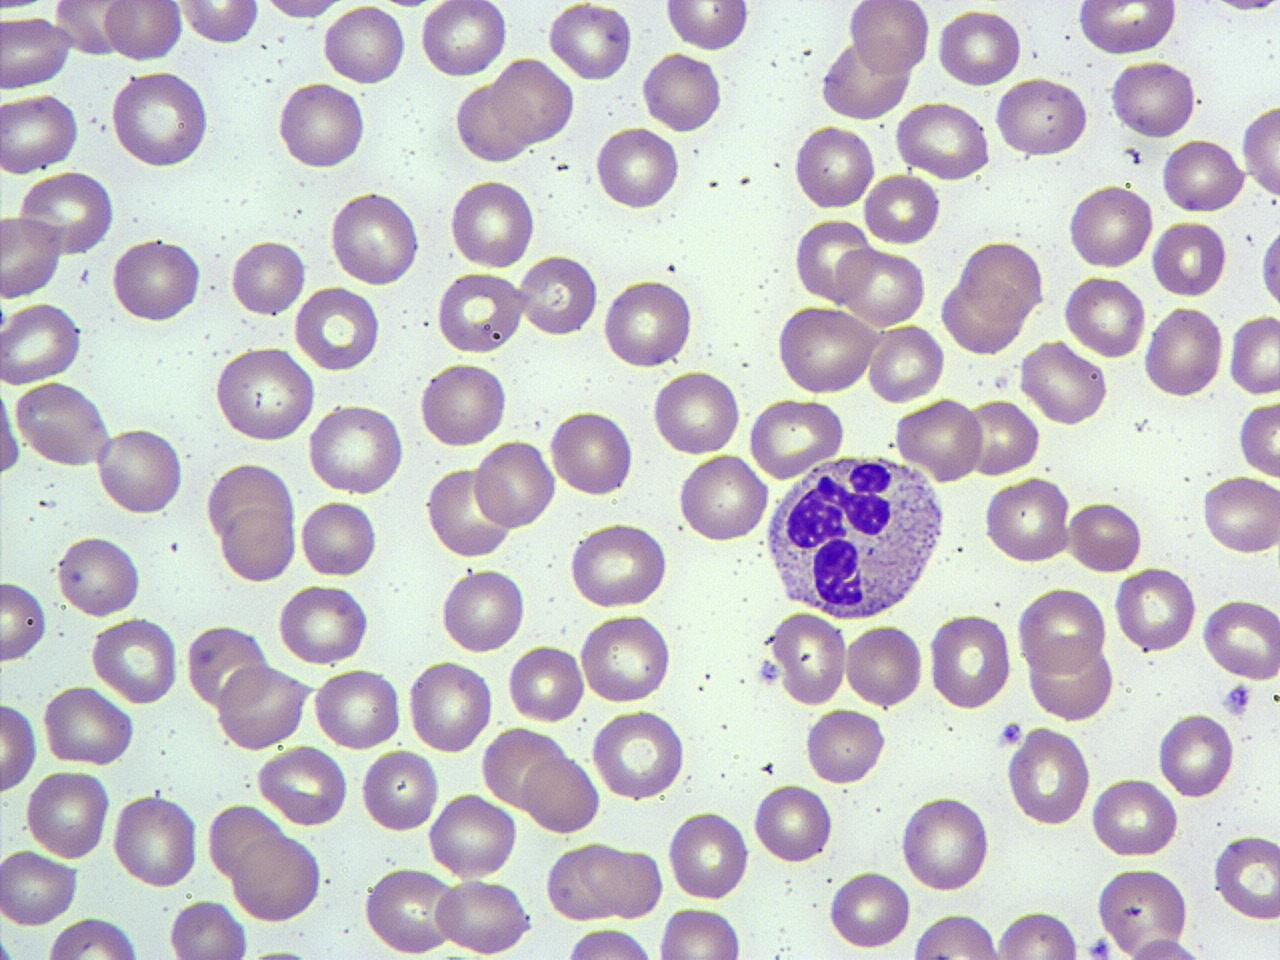Platelets: (1220, 680, 1254, 720), (756, 657, 782, 688), (998, 720, 1023, 748), (1087, 934, 1113, 960)
RBC: (211, 344, 317, 445), (109, 69, 210, 169), (773, 304, 879, 396), (326, 189, 424, 288), (306, 402, 406, 498), (898, 792, 992, 894), (576, 610, 673, 708), (589, 708, 689, 802), (13, 377, 114, 470), (1005, 724, 1093, 830), (1095, 864, 1193, 959), (15, 168, 118, 258), (600, 276, 696, 372), (568, 520, 670, 610), (405, 656, 495, 758), (676, 451, 770, 548), (204, 460, 297, 556), (1014, 584, 1109, 677), (416, 357, 509, 452), (111, 792, 200, 891), (747, 396, 849, 481), (426, 790, 520, 882), (95, 422, 186, 517), (928, 610, 1012, 712), (231, 832, 324, 924), (276, 79, 368, 172), (110, 234, 204, 325), (546, 406, 636, 501), (447, 176, 536, 272), (991, 74, 1091, 159), (651, 366, 743, 458), (214, 661, 308, 751), (23, 768, 113, 862), (471, 436, 558, 533), (423, 464, 509, 562), (364, 865, 456, 956), (981, 474, 1073, 565), (1065, 180, 1155, 273), (438, 564, 527, 658), (833, 243, 928, 330), (1142, 302, 1224, 402), (1018, 338, 1109, 428), (312, 664, 403, 754), (666, 806, 750, 903), (431, 877, 534, 956), (40, 684, 138, 767), (90, 614, 180, 704), (892, 99, 992, 180), (893, 395, 984, 484), (255, 743, 350, 828), (276, 582, 372, 666), (593, 123, 682, 212), (435, 268, 526, 355), (792, 121, 878, 213), (771, 608, 850, 708), (820, 36, 912, 121), (55, 532, 143, 620), (293, 285, 382, 372), (1112, 564, 1198, 654), (1088, 776, 1180, 860), (1108, 57, 1198, 142), (936, 5, 1024, 90), (418, 0, 510, 81), (792, 216, 876, 304), (359, 746, 441, 836), (843, 621, 925, 711), (1155, 709, 1235, 801), (0, 299, 85, 385), (546, 0, 634, 83), (518, 251, 600, 340), (1062, 273, 1146, 359), (320, 4, 407, 87), (938, 276, 1026, 358), (491, 57, 573, 145), (752, 780, 834, 868), (828, 868, 912, 952), (576, 842, 664, 922), (1026, 644, 1116, 722), (960, 239, 1047, 319), (640, 50, 722, 134), (1199, 472, 1279, 557), (0, 91, 80, 175), (964, 395, 1043, 480), (507, 641, 586, 726), (1160, 136, 1246, 214), (0, 846, 80, 929), (228, 236, 307, 320), (297, 498, 378, 579), (217, 502, 299, 582), (521, 752, 599, 836), (1201, 598, 1279, 682), (804, 708, 888, 786), (1150, 216, 1228, 300), (848, 0, 932, 77), (866, 322, 946, 402), (861, 169, 942, 248), (1211, 830, 1279, 924), (453, 82, 530, 163), (0, 11, 74, 91), (1074, 0, 1178, 56), (1066, 500, 1142, 574), (0, 214, 63, 301), (101, 0, 182, 63), (654, 904, 746, 959), (165, 898, 249, 958), (663, 0, 751, 54), (992, 908, 1082, 959), (1227, 310, 1279, 397), (43, 915, 145, 959), (910, 910, 1000, 959), (0, 579, 50, 665), (1239, 99, 1279, 199), (176, 0, 261, 46), (0, 700, 40, 796), (560, 925, 660, 960), (1236, 401, 1280, 478), (1114, 935, 1214, 960), (1256, 213, 1280, 315), (258, 0, 349, 23)
WBC: (761, 450, 951, 624)
